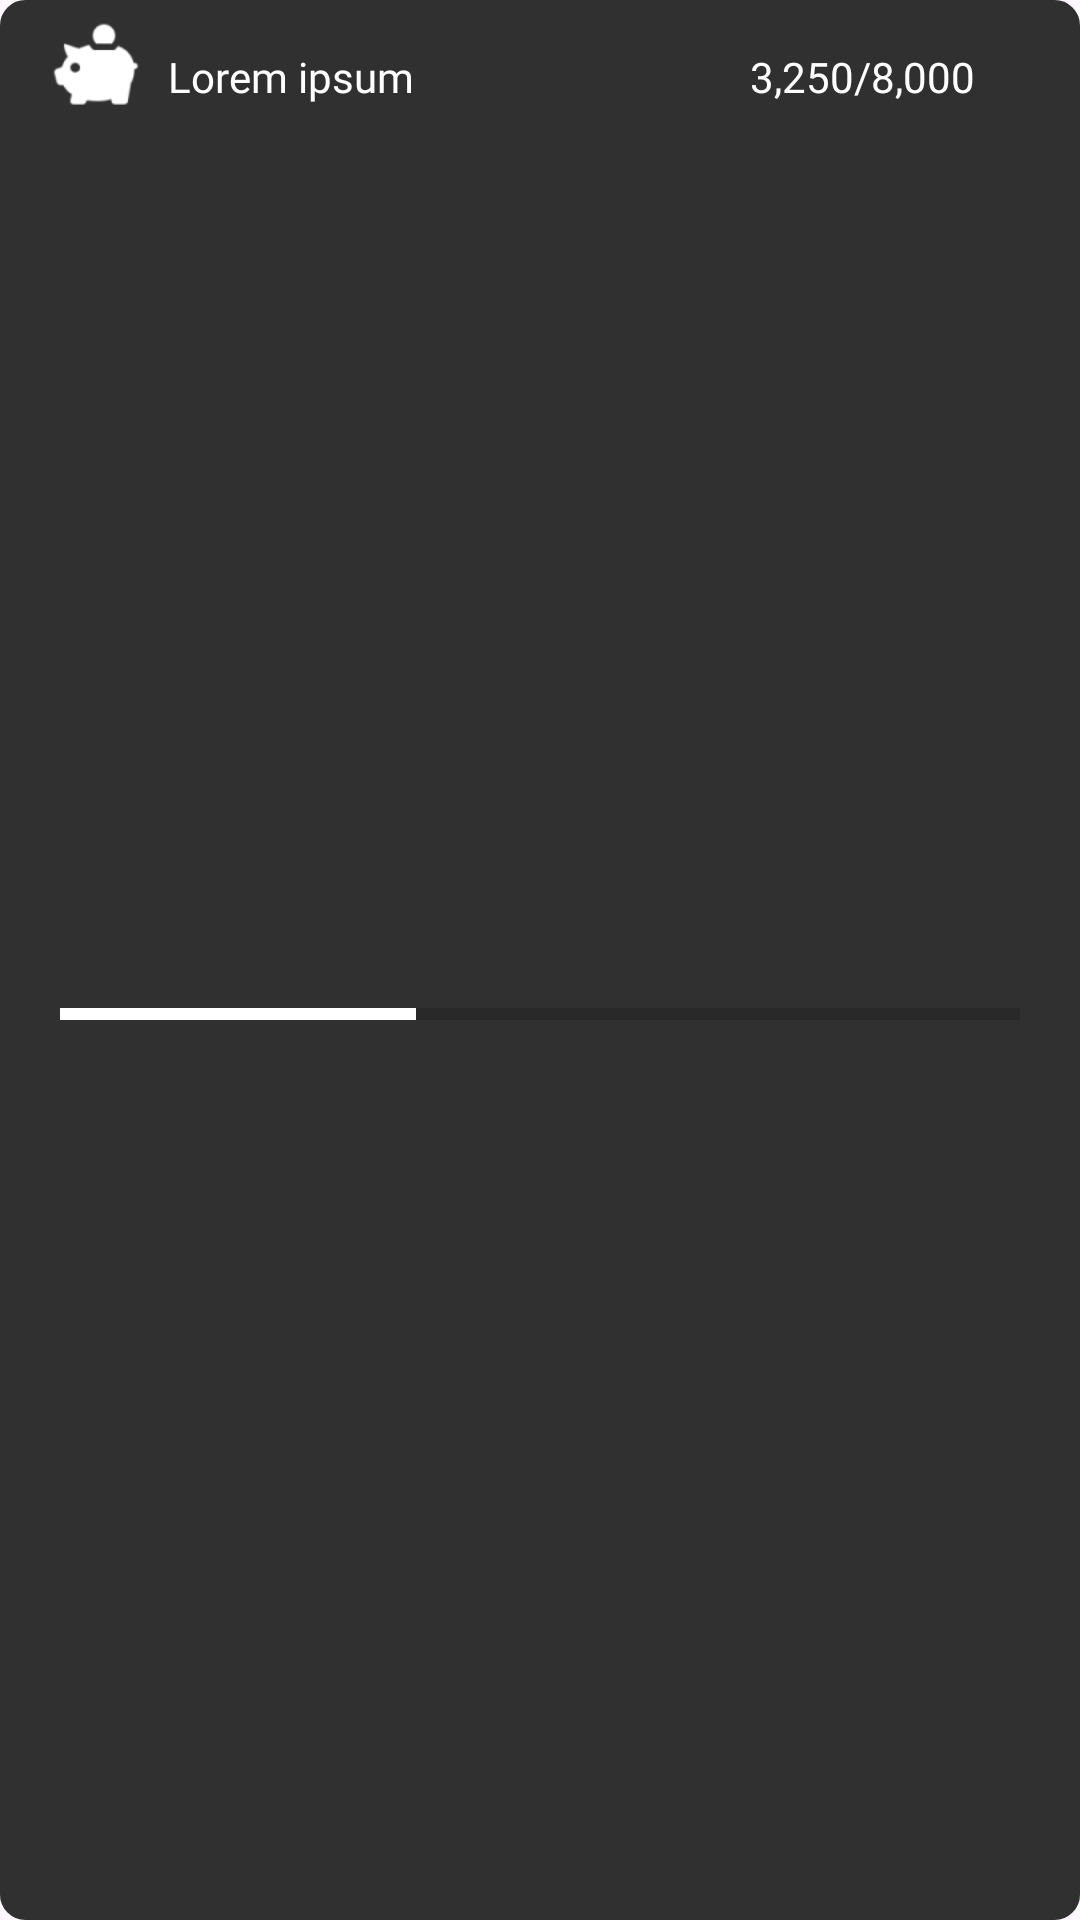

Screen size 1080×1920. Icon name, then its box in pixels as (x1, y1, x2, y2):
piggy: (53, 23, 139, 105)
